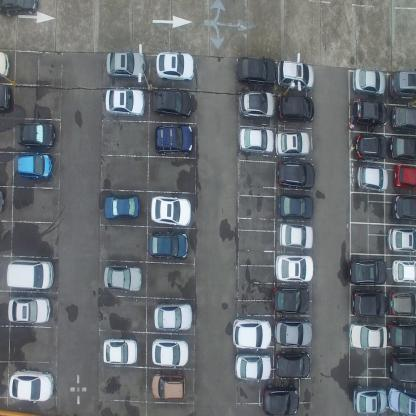car: (8, 369, 54, 403), (7, 259, 54, 289), (152, 122, 194, 155), (231, 315, 271, 349), (152, 86, 192, 119), (152, 299, 192, 332), (150, 192, 191, 224), (106, 49, 148, 80), (104, 86, 146, 117), (271, 284, 311, 316), (102, 262, 142, 293), (147, 228, 188, 258), (8, 295, 50, 324), (261, 384, 299, 416), (276, 252, 315, 283), (276, 158, 316, 188), (274, 318, 314, 348), (237, 56, 277, 86), (347, 254, 387, 284), (278, 58, 314, 91), (277, 93, 315, 124), (156, 49, 195, 79), (238, 123, 275, 154), (150, 337, 188, 367), (238, 90, 276, 120), (350, 288, 388, 318), (16, 122, 56, 150), (349, 320, 387, 349), (353, 383, 387, 415), (276, 350, 312, 380), (150, 370, 186, 400), (17, 152, 53, 182), (278, 192, 315, 221), (234, 353, 272, 381), (280, 220, 315, 250), (352, 67, 386, 97), (274, 130, 310, 158), (354, 98, 388, 127), (356, 164, 388, 194), (386, 383, 416, 415), (388, 68, 416, 102), (102, 338, 137, 365), (104, 194, 140, 220), (354, 132, 387, 160), (388, 351, 415, 384), (387, 320, 416, 350), (387, 225, 416, 254), (389, 288, 416, 318), (390, 105, 416, 134), (0, 0, 39, 19), (388, 136, 416, 162), (391, 258, 416, 285), (393, 164, 416, 193), (392, 194, 416, 221), (0, 49, 11, 79), (0, 82, 9, 112)
